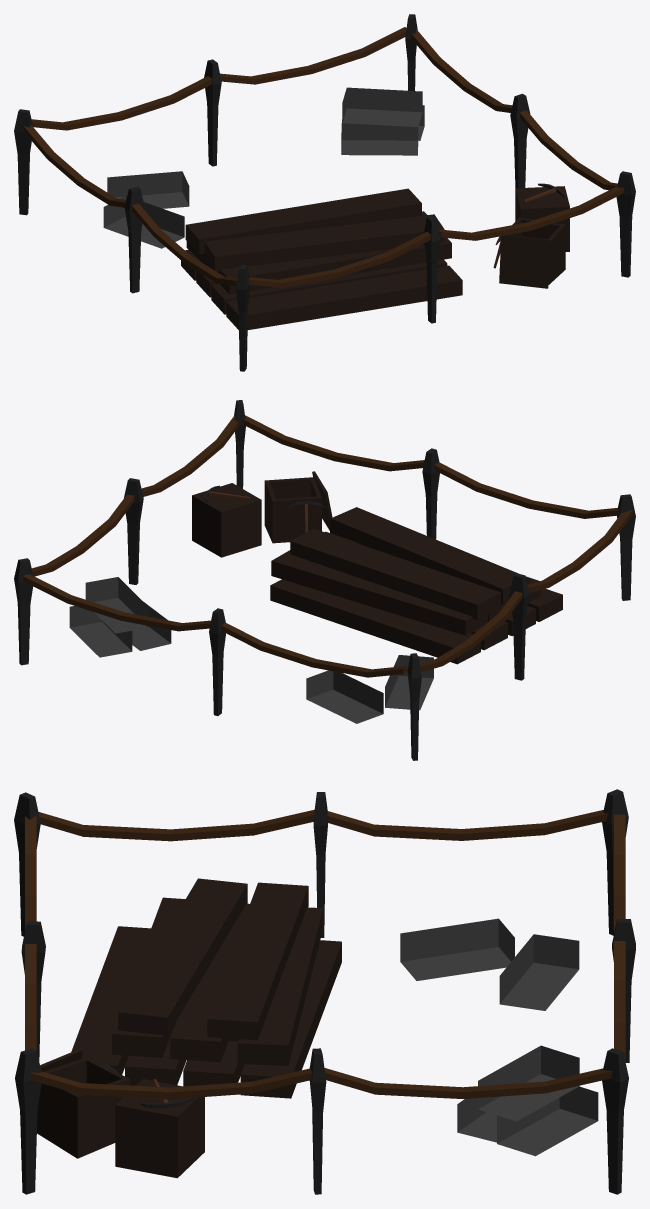
File: construction_medium.obj
3 views of the same model, one above another, from view 1: azimuth 30°, elevation 25°; view 2: azimuth 150°, elevation 25°; view 3: azimuth 270°, elevation 25° (orthographic). The views are drawn at different scales.
Parts seen in each view (by area): view 1: Construction_Site_ResourceHut_ResourceHut_PointyTower_Cylinder.0; view 2: Construction_Site_ResourceHut_ResourceHut_PointyTower_Cylinder.0; view 3: Construction_Site_ResourceHut_ResourceHut_PointyTower_Cylinder.0.
Part boxes in pixels (left/top/right/bottom): Construction_Site_ResourceHut_ResourceHut_PointyTower_Cylinder.0: left=14, top=14, right=635, bottom=371; Construction_Site_ResourceHut_ResourceHut_PointyTower_Cylinder.0: left=14, top=400, right=635, bottom=760; Construction_Site_ResourceHut_ResourceHut_PointyTower_Cylinder.0: left=14, top=789, right=635, bottom=1194.
Bounding box in the file's own units: 1.89 × 0.4594 × 1.84.
